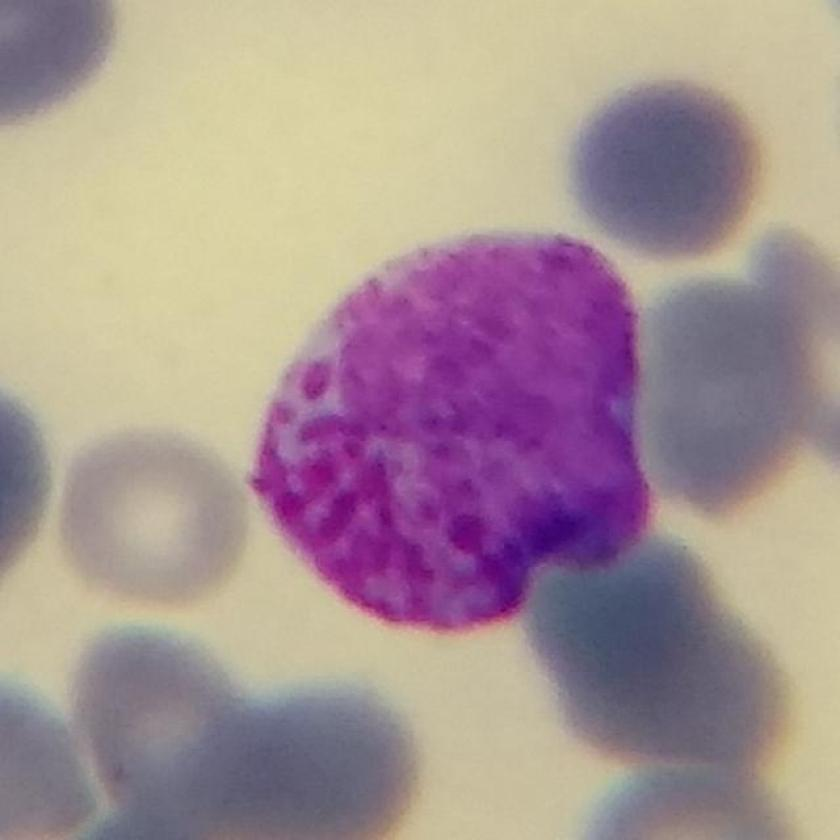basophil: (240, 216, 664, 643)
